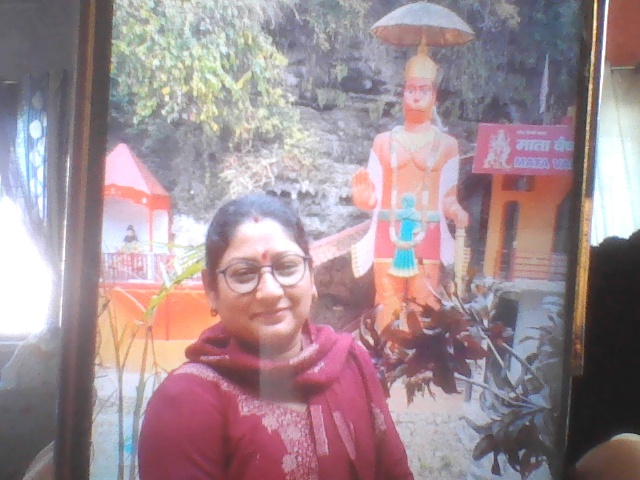fake: (204, 181, 334, 366)
